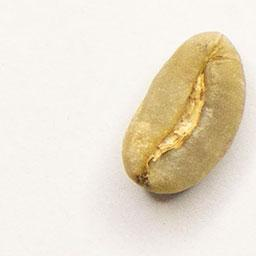longberry: (120, 26, 249, 200)
